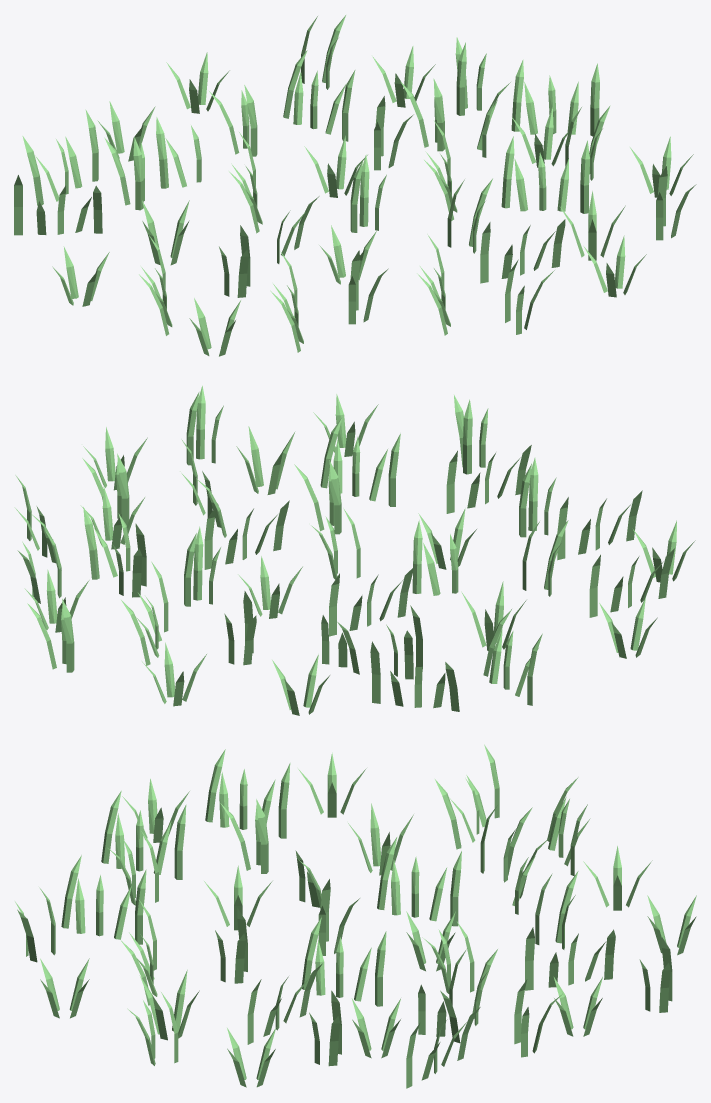
File: Grass1.fbx
3 renders of one model, top to bottom at view 1: azimuth 30°, elevation 25°; view 2: azimuth 150°, elevation 25°; view 3: azimuth 270°, elevation 25°, orthographic. The views are drawn at different scales.
Visible parts, largest first — view 1: Grass1; view 2: Grass1; view 3: Grass1.
Boxes of the visible parts, x1,y1,x2,y2 form: Grass1: (14, 15, 696, 356); Grass1: (14, 385, 695, 715); Grass1: (15, 744, 696, 1088).
Size of the model in its own units: 5.89 by 0.7294 by 5.66.
